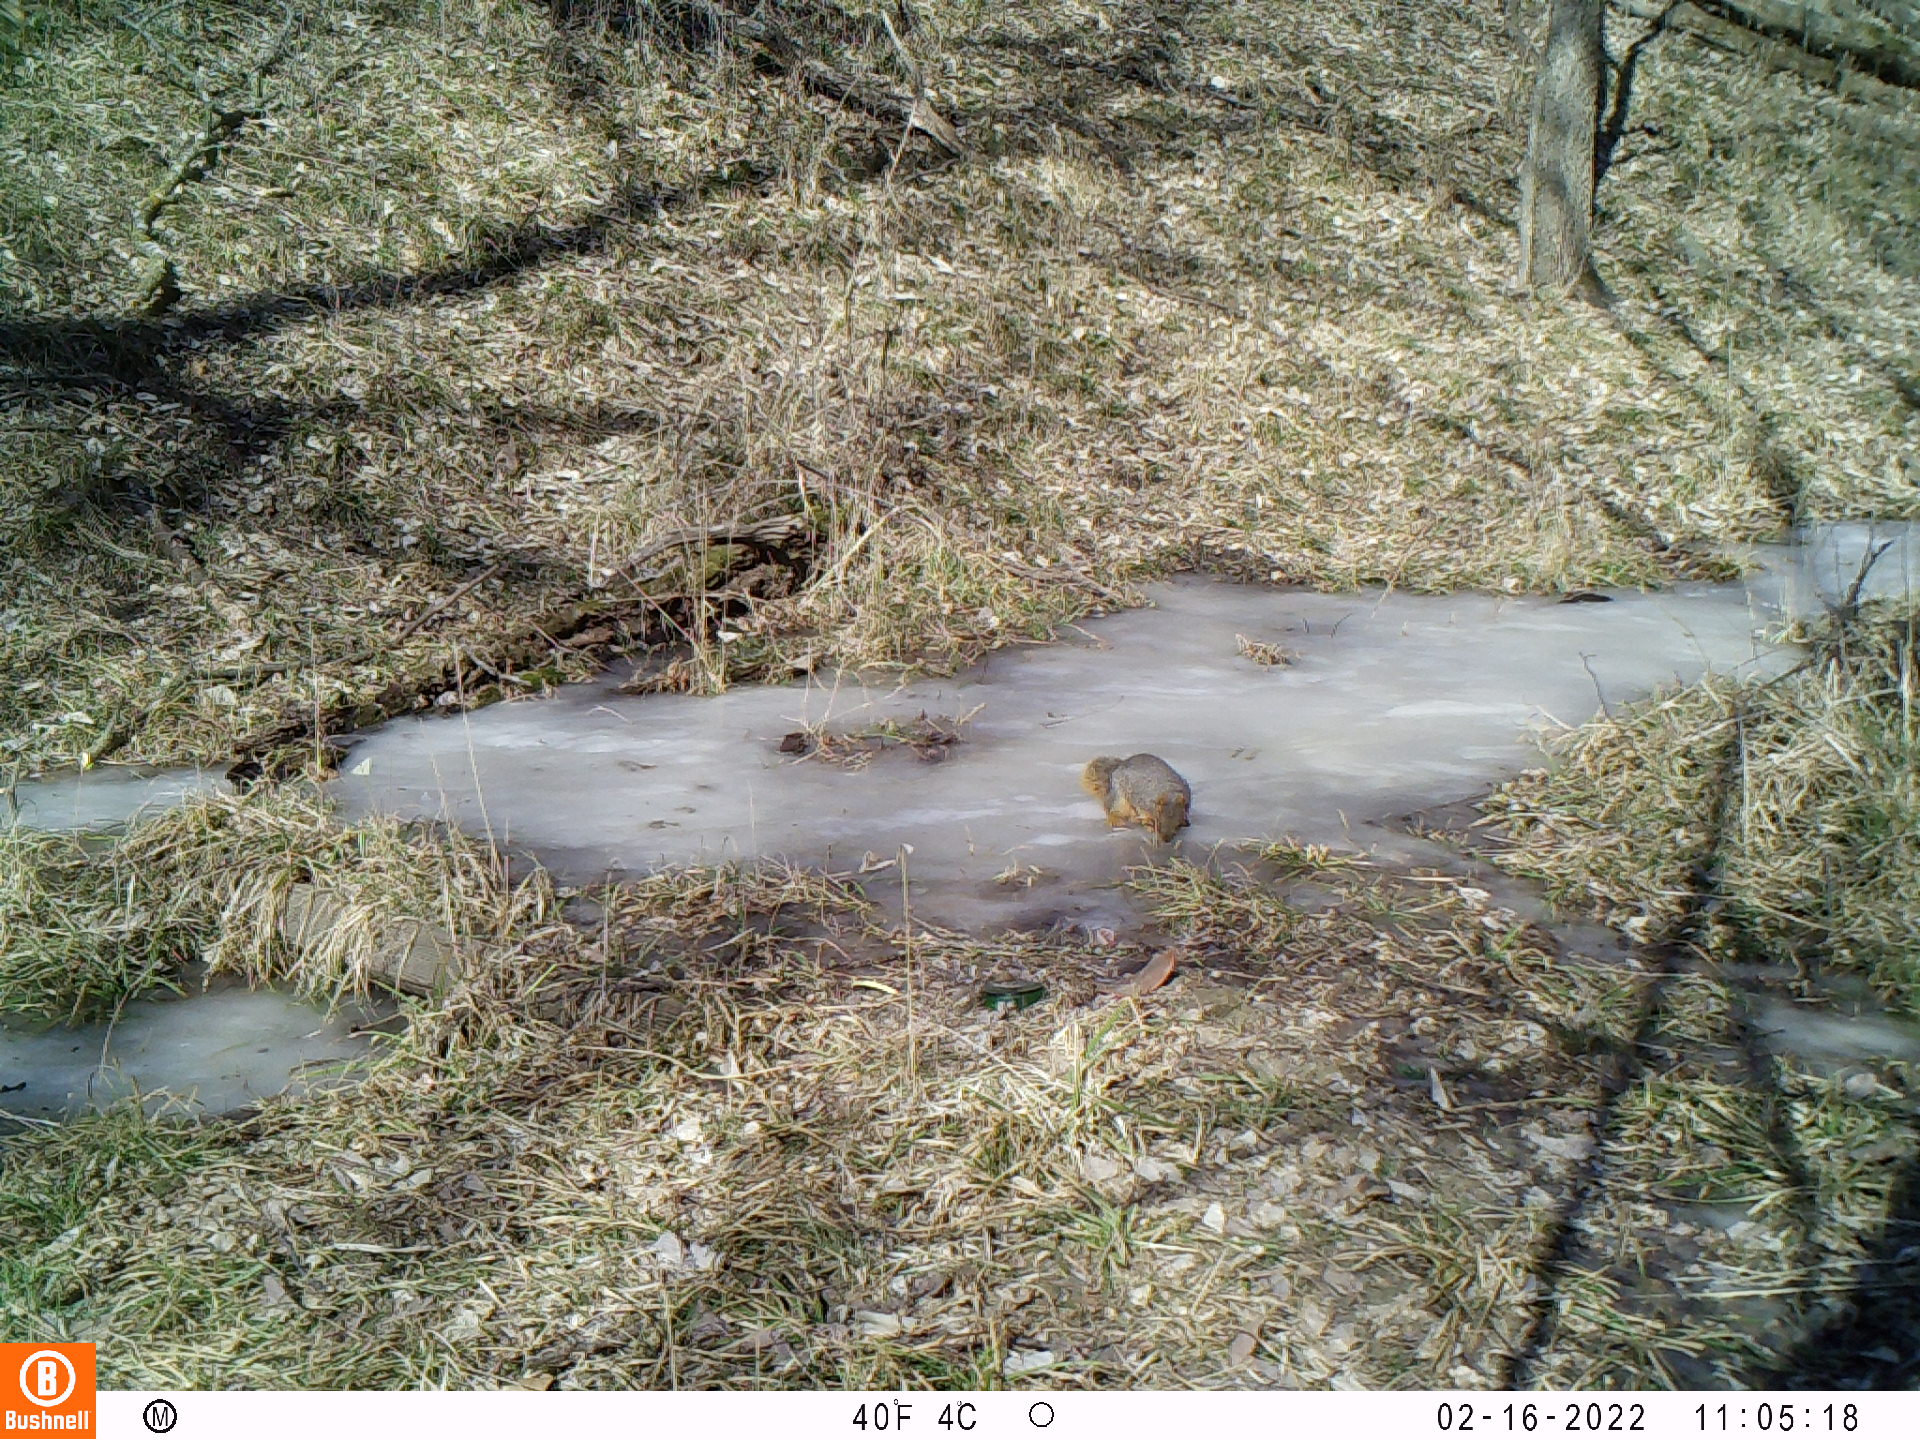Squirrel: (1082, 750, 1194, 841)
